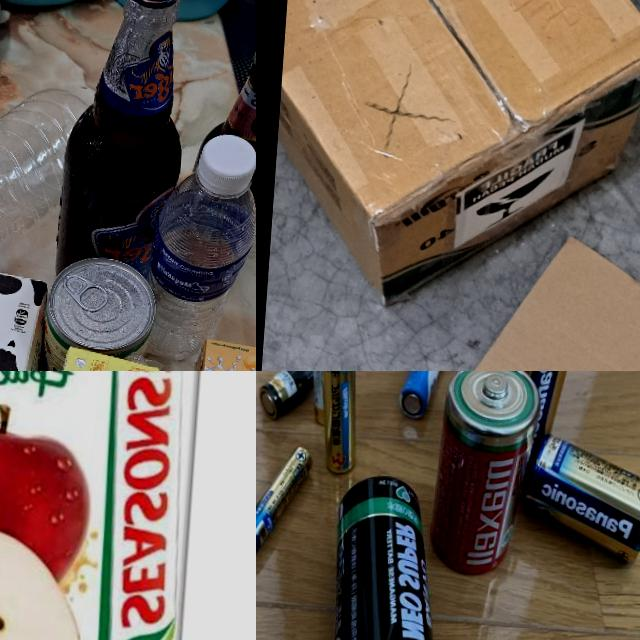bateria: (420, 371, 545, 578), (312, 468, 451, 640), (515, 427, 640, 570), (475, 371, 586, 476), (256, 440, 312, 562), (310, 371, 363, 473), (395, 371, 452, 422), (256, 371, 313, 422), (304, 371, 346, 425)
caixinha: (0, 371, 214, 640)
garrafa de vidro: (50, 0, 196, 289), (192, 39, 256, 234)
garrafa plástica: (0, 74, 88, 369), (144, 173, 256, 365)
lata: (40, 258, 154, 371), (65, 270, 112, 312)
papelão: (266, 0, 640, 324), (378, 224, 640, 371)
tampa plástica: (195, 135, 256, 192)
